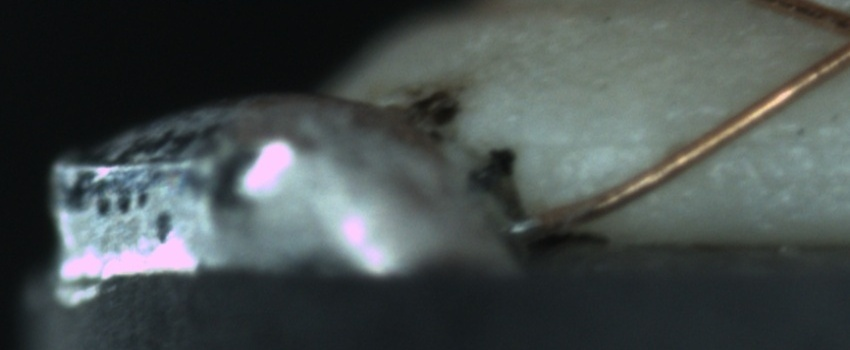DL: (534, 108, 828, 174)
